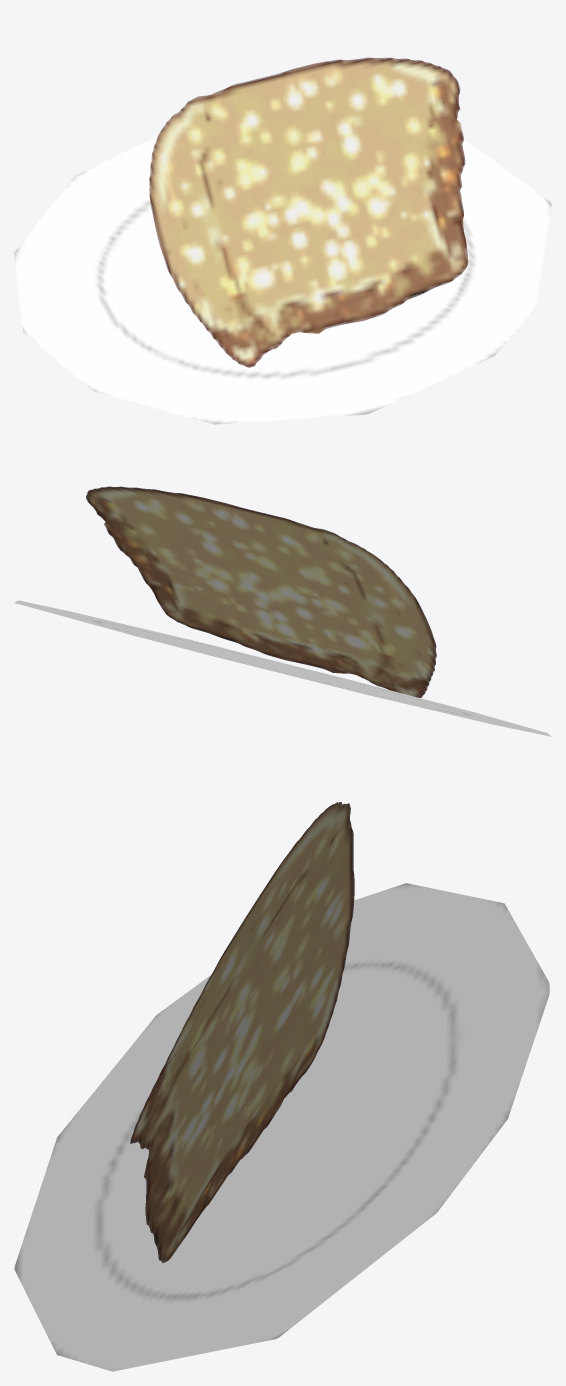
The model's file is giftgoods054.fbx.
3 renders of one model, top to bottom at view 1: azimuth 30°, elevation 25°; view 2: azimuth 150°, elevation 25°; view 3: azimuth 270°, elevation 25°, orthographic. The views are drawn at different scales.
Visible parts, largest first — view 1: giftgoods054; view 2: giftgoods054; view 3: giftgoods054.
Part boxes in pixels (x1,y1,x2,y2): giftgoods054: (14, 57, 551, 424); giftgoods054: (14, 486, 551, 736); giftgoods054: (14, 802, 549, 1371).
Bounding box in the file's own units: 0.5808 × 0.2836 × 0.32.
